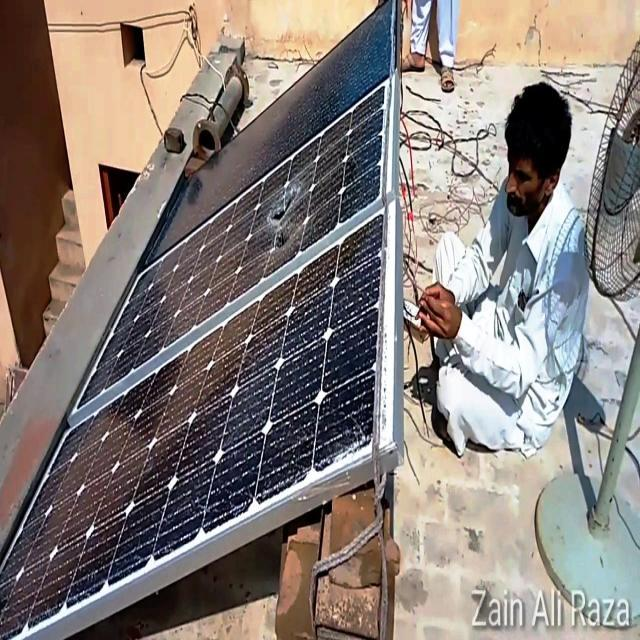faulty: (1, 208, 393, 638), (65, 81, 399, 412)
